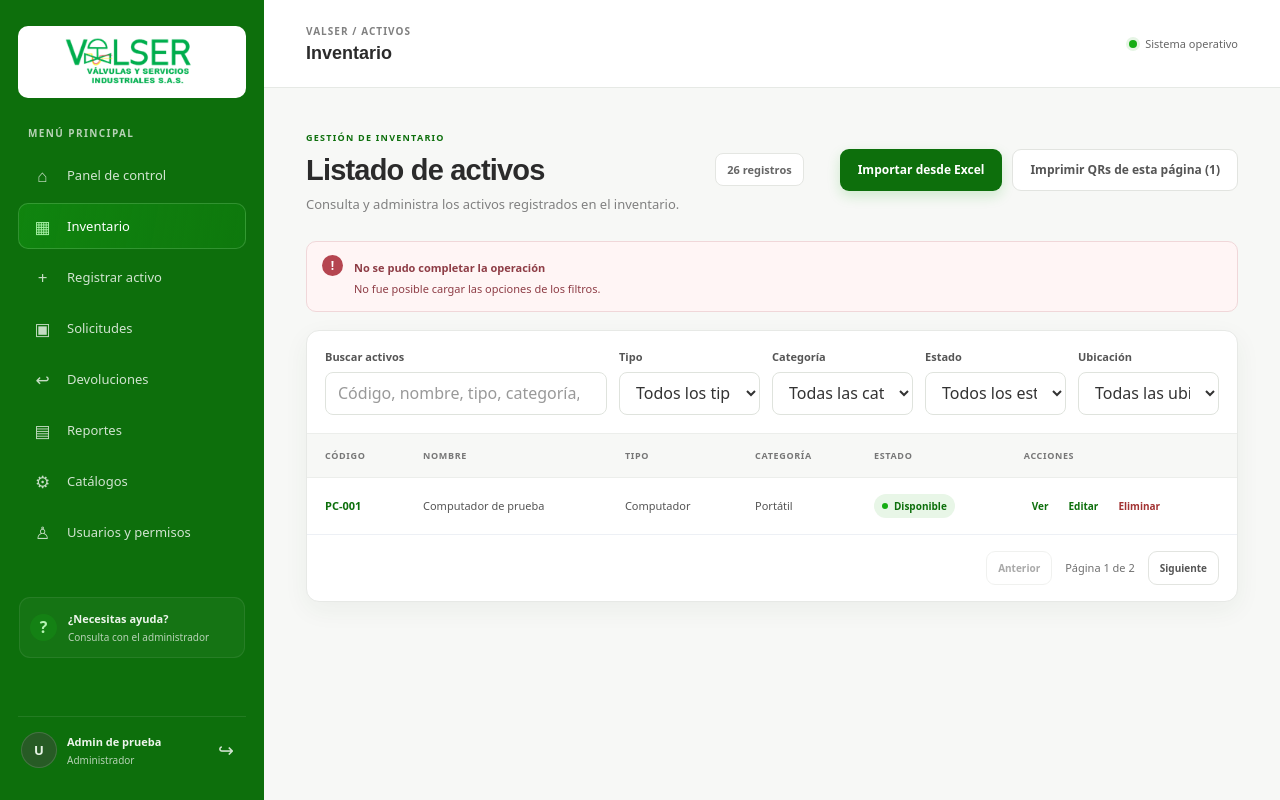
it: Autenticación y navegación › muestra los activos y permite paginar el listado
The image size is (1280, 800).
Expected: the text "Computador de prueba" is shown, [405,477,607,534]
Expected: the text "PC-001" is shown, [307,477,405,534]
What coordinates should you click on to do the following:
click the button "Siguiente"
I would click on:
 (1183, 568)
Its box is [1148,551,1219,585].
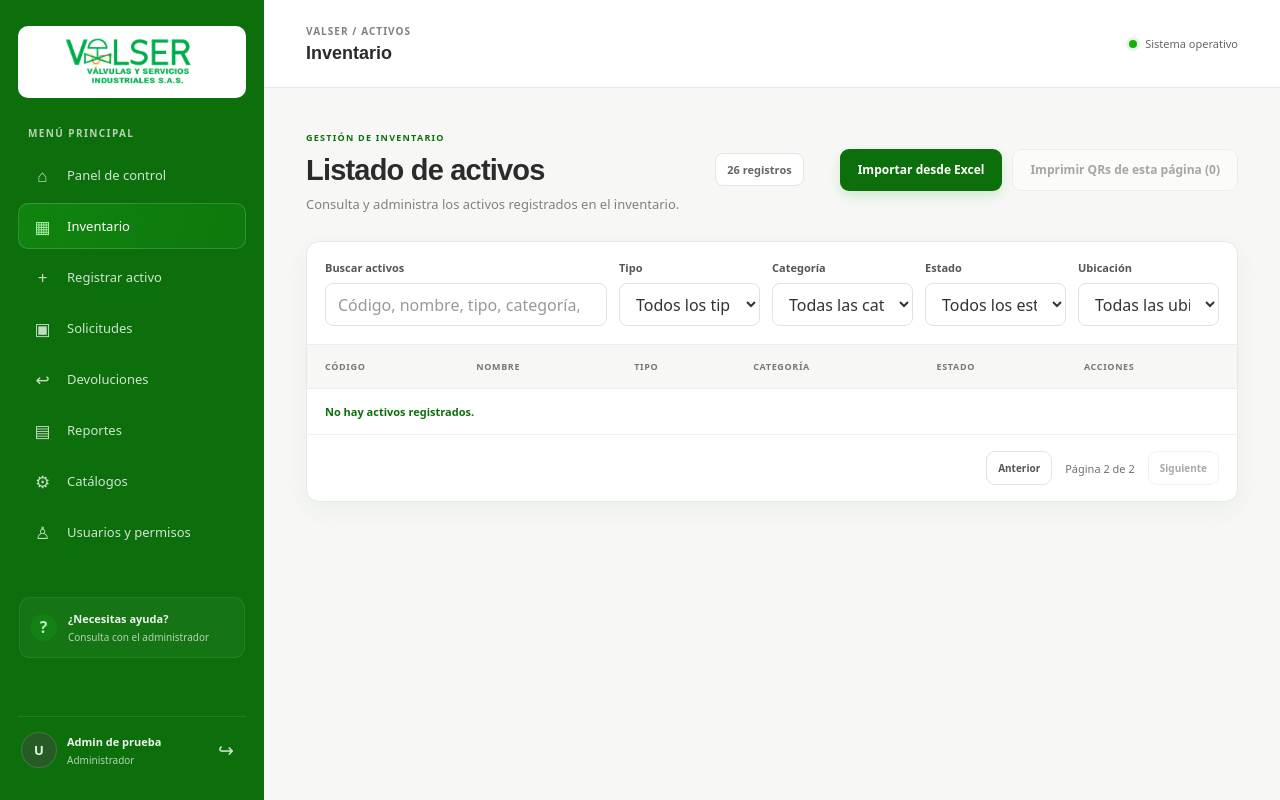
Expected: the text "Página 2 de 2" is shown, [1065,461,1135,476]
